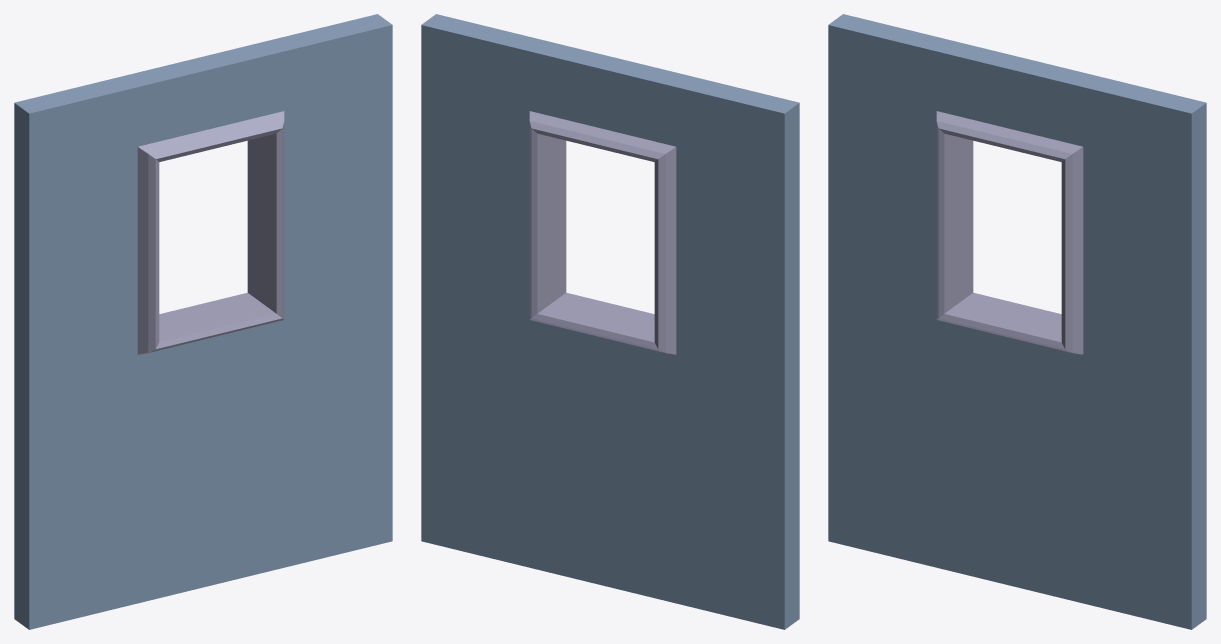
The model's file is Wall_Open.fbx.
3 views of the same model, side by side, from view 1: azimuth 30°, elevation 25°; view 2: azimuth 150°, elevation 25°; view 3: azimuth 330°, elevation 25° (orthographic).
Parts seen in each view (by area): view 1: Wall_Window.001; view 2: Wall_Window.001; view 3: Wall_Window.001.
Part boxes in pixels (bbox=[...]): Wall_Window.001: bbox=[14, 14, 392, 629]; Wall_Window.001: bbox=[421, 14, 799, 629]; Wall_Window.001: bbox=[828, 14, 1206, 629].
Size of the model in its own units: 2800 by 3800 by 417.
